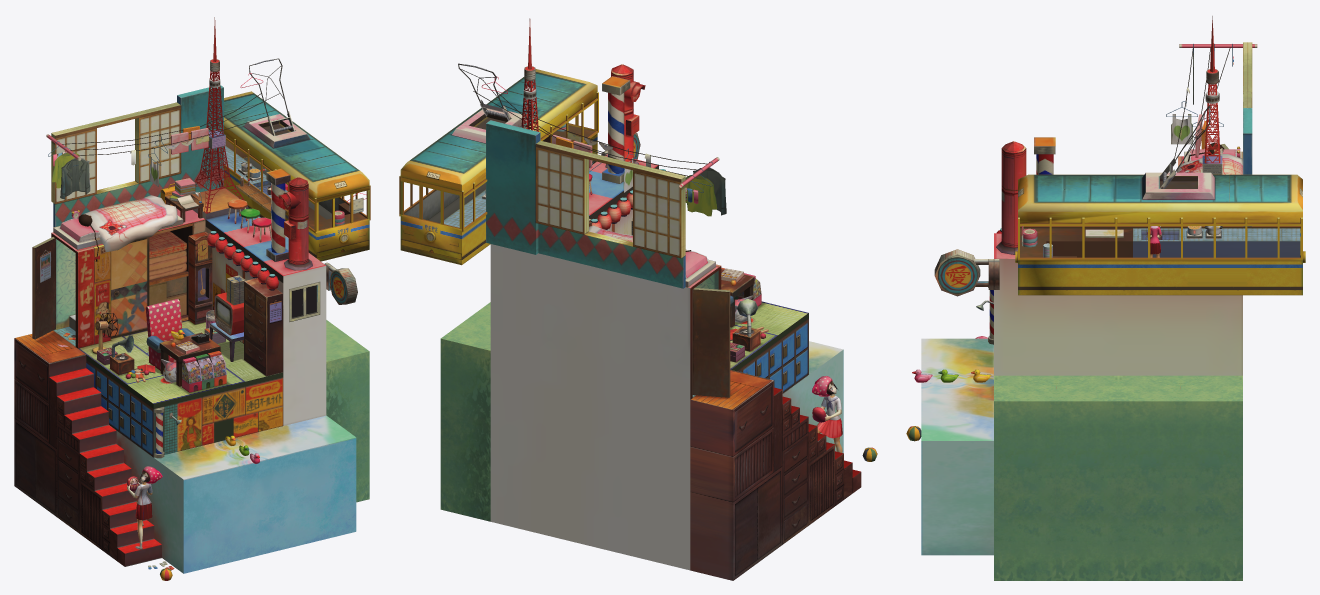
Rendered from retro-box-world.gltf.
3 views of the same model, side by side, from view 1: azimuth 30°, elevation 25°; view 2: azimuth 150°, elevation 25°; view 3: azimuth 270°, elevation 25° (orthographic). The views are drawn at different scales.
Parts seen in each view (by area): view 1: _gltfNode_1, _gltfNode_3, _gltfNode_2, _gltfNode_0; view 2: _gltfNode_1, _gltfNode_2, _gltfNode_3, _gltfNode_0; view 3: _gltfNode_1, _gltfNode_3, _gltfNode_2, _gltfNode_0.
Boxes of the visible parts, x1=… form: _gltfNode_1: x1=32, y1=58, x2=370, y2=573; _gltfNode_3: x1=46, y1=20, x2=370, y2=580; _gltfNode_2: x1=14, y1=17, x2=370, y2=566; _gltfNode_0: x1=78, y1=183, x2=287, y2=549; _gltfNode_1: x1=399, y1=18, x2=843, y2=580; _gltfNode_2: x1=399, y1=68, x2=861, y2=580; _gltfNode_3: x1=399, y1=64, x2=877, y2=477; _gltfNode_0: x1=685, y1=250, x2=842, y2=452; _gltfNode_1: x1=921, y1=20, x2=1302, y2=580; _gltfNode_3: x1=906, y1=16, x2=1305, y2=441; _gltfNode_2: x1=921, y1=44, x2=1300, y2=440; _gltfNode_0: x1=975, y1=142, x2=1223, y2=338.
Bounding box in the file's own units: 247 × 387 × 265.
Materials: 2 (2 with a texture image).
